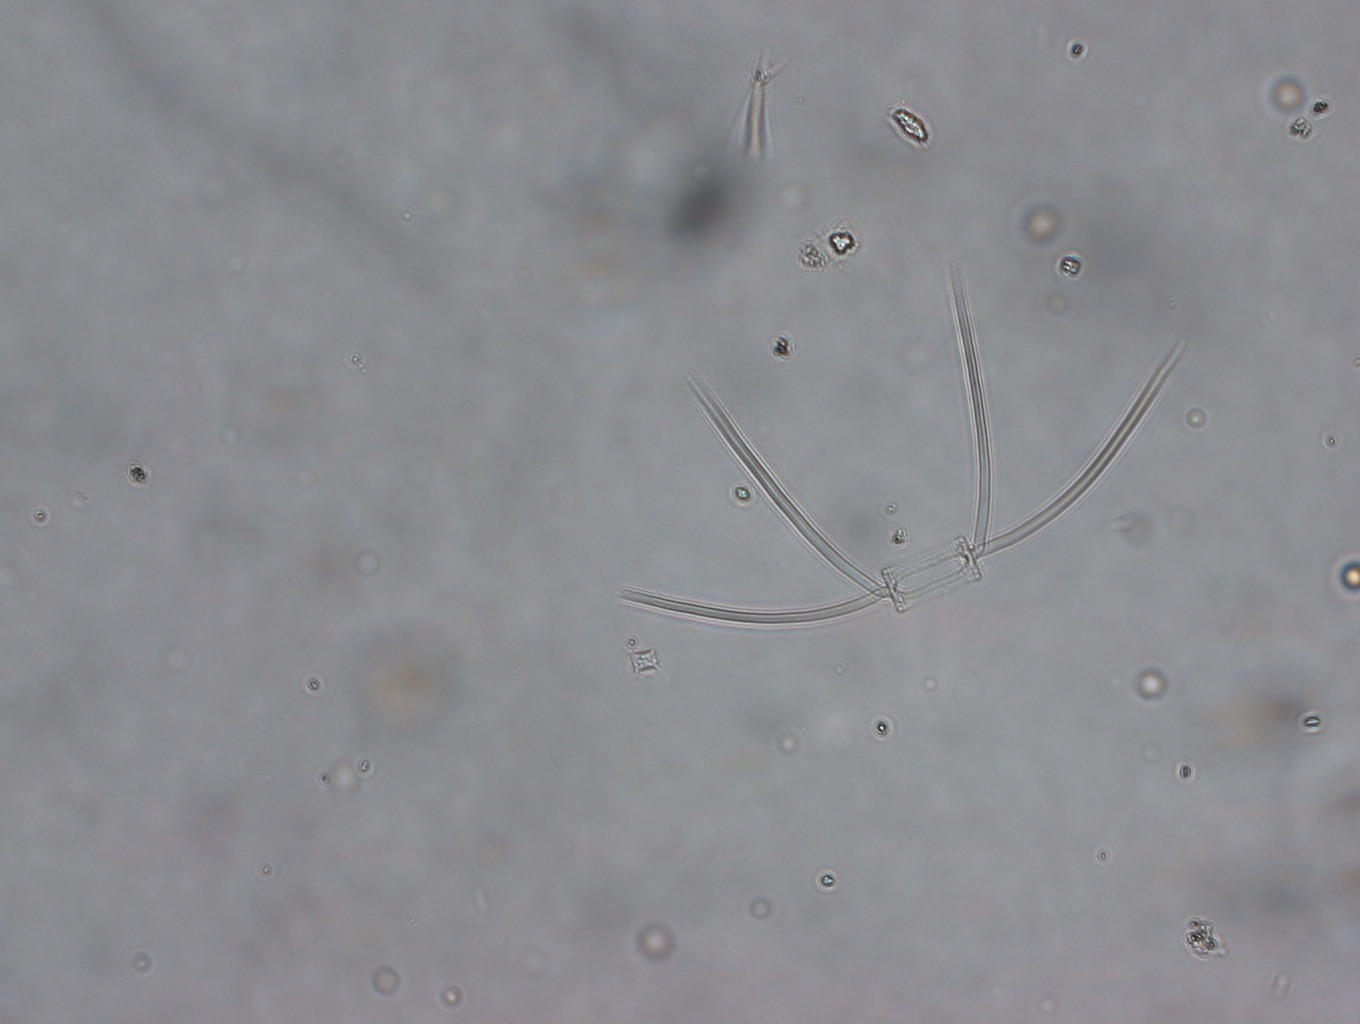chaetoceros: (603, 250, 1189, 630)
